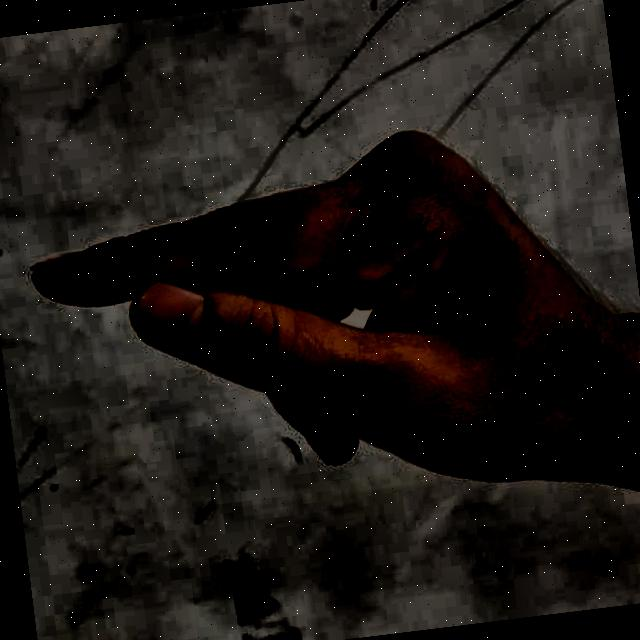Tha: (14, 86, 640, 592)
